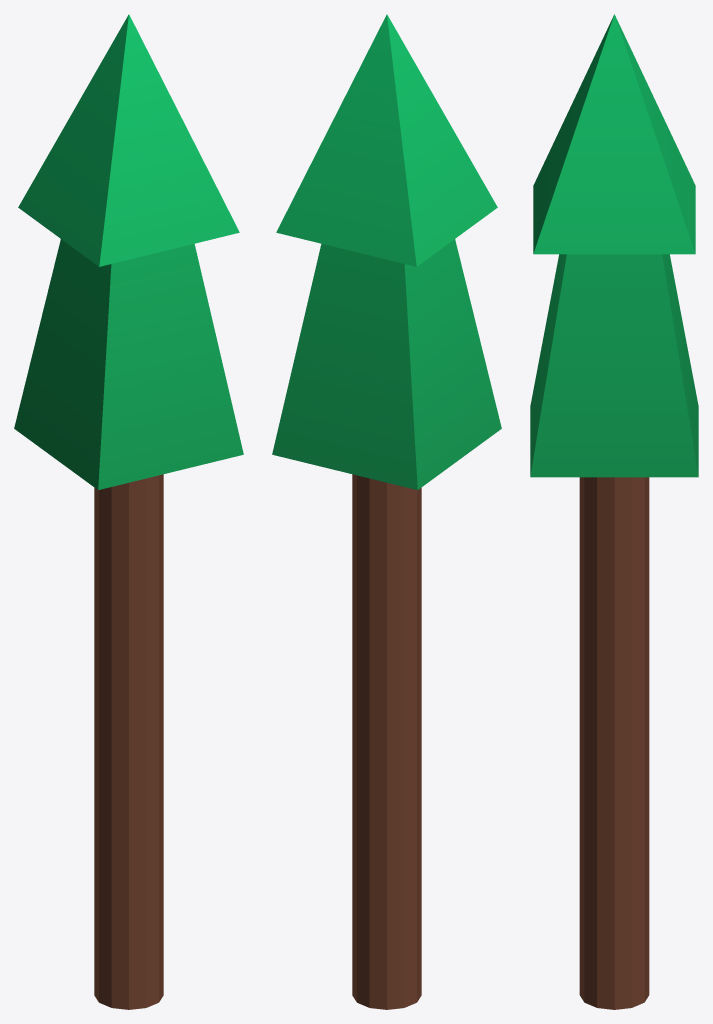
Rendered from Tree_16_gradient_green_vc.fbx.
3 views of the same model, side by side, from view 1: azimuth 30°, elevation 25°; view 2: azimuth 150°, elevation 25°; view 3: azimuth 270°, elevation 25° (orthographic).
Visible parts, largest first — view 1: Tree_16_gradient_green_vc; view 2: Tree_16_gradient_green_vc; view 3: Tree_16_gradient_green_vc.
Part boxes in pixels (x1=…): Tree_16_gradient_green_vc: x1=14, y1=14, x2=243, y2=1009; Tree_16_gradient_green_vc: x1=272, y1=14, x2=501, y2=1009; Tree_16_gradient_green_vc: x1=530, y1=14, x2=698, y2=1009.
Size of the model in its own units: 53.67 by 345 by 53.67.
